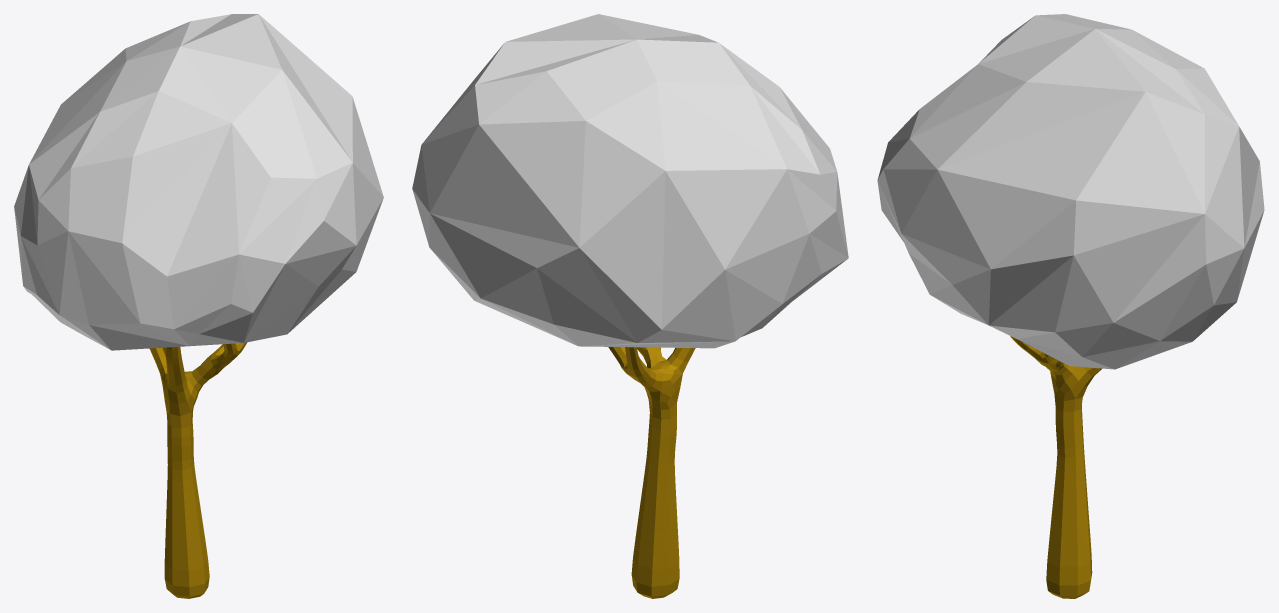
File: tree3.glb
The picture shows the model from 3 angles, left to right: view 1: azimuth 30°, elevation 25°; view 2: azimuth 150°, elevation 25°; view 3: azimuth 270°, elevation 25°; orthographic projection. The views are drawn at different scales.
Parts seen in each view (by area): view 1: leaf, trunk; view 2: leaf, trunk; view 3: leaf, trunk.
Part boxes in pixels (x1,y1,x2,y2): leaf: (14, 14, 383, 350); trunk: (149, 342, 247, 598); leaf: (412, 14, 848, 348); trunk: (608, 347, 695, 598); leaf: (877, 14, 1264, 369); trunk: (1010, 336, 1101, 598).
Size of the model in its own units: 2.93 by 4.42 by 2.73.
